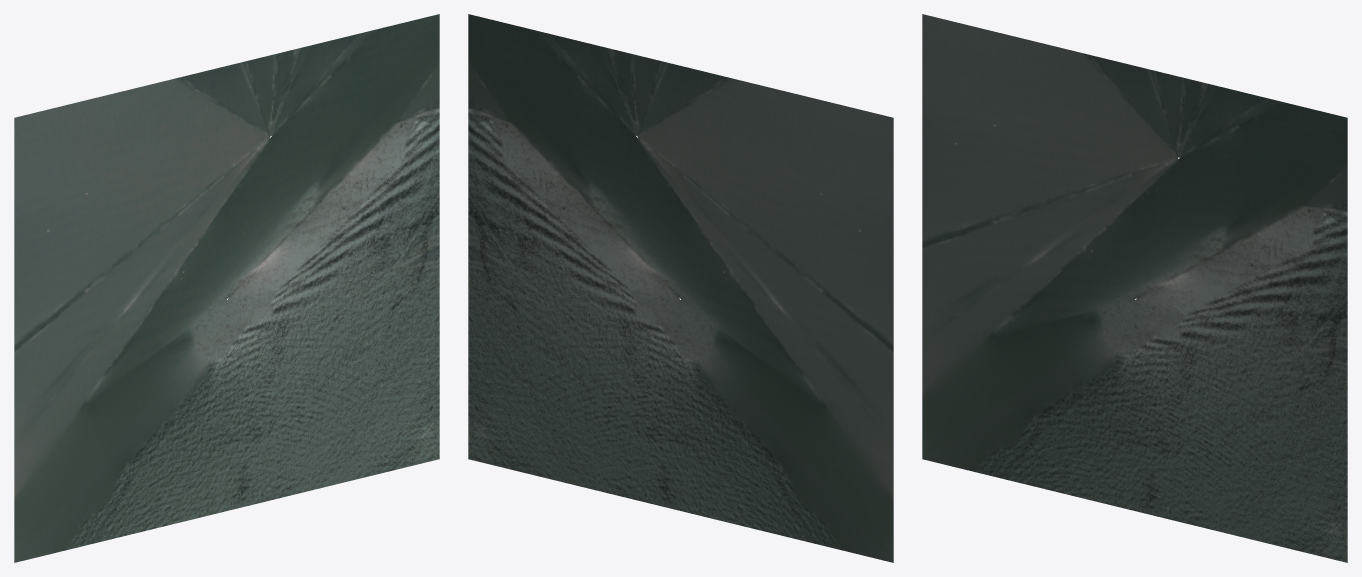
File: Tile_+1996_+2683.obj
3 renders of one model, left to right at view 1: azimuth 30°, elevation 25°; view 2: azimuth 150°, elevation 25°; view 3: azimuth 330°, elevation 25°, orthographic.
Size of the model in its own units: 252 by 252 by 0.1021.
Materials: 1 (1 with a texture image).
